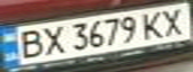3: (66, 20, 90, 52)
6: (87, 17, 109, 48)
7: (103, 15, 124, 47)
9: (118, 12, 142, 44)
B: (12, 27, 48, 61)
K: (136, 9, 169, 40)
X: (154, 4, 190, 37), (36, 22, 69, 56)
